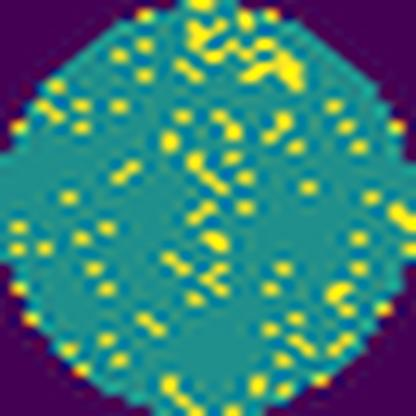Loc: (179, 14, 305, 89), (162, 110, 250, 198)
